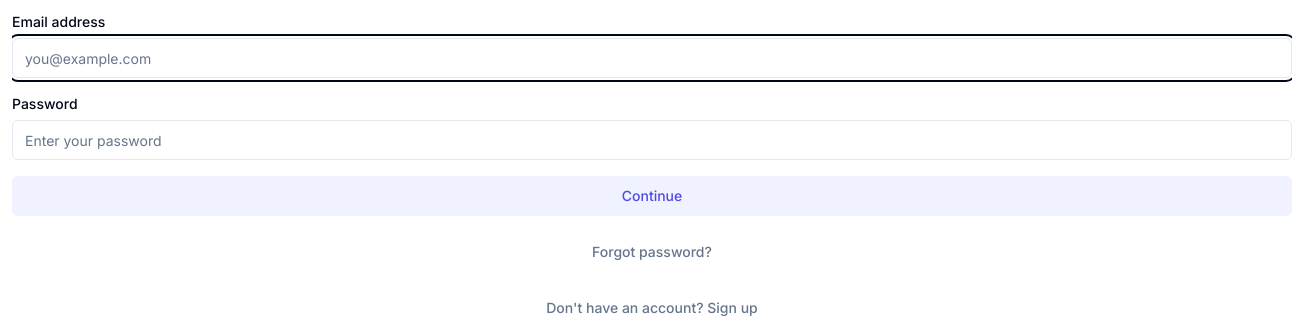
Test: EmailPasswordAuthForm › Mode switching › switches from sign-in to reset when forgot password clicked
The image size is (1304, 333).
What coordinates should you click on to do the following:
click the button "Forgot password?"
I would click on:
 (652, 252)
Its box is [12, 232, 1292, 272].
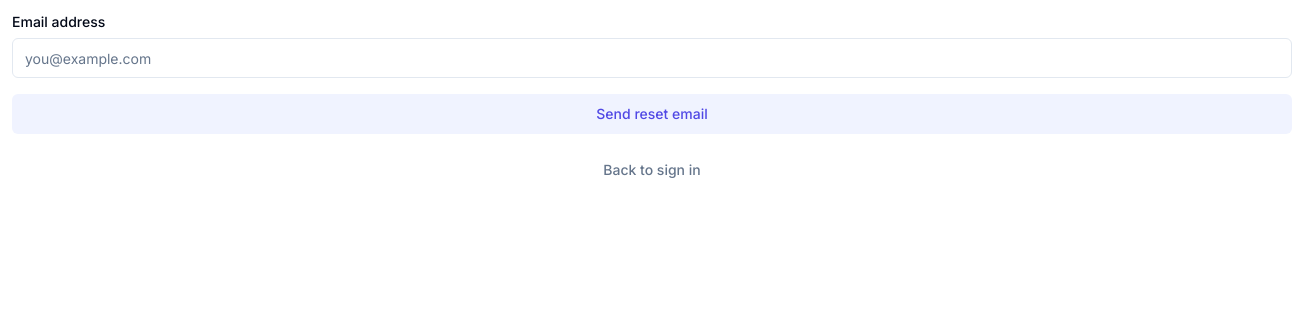
Now the button "Send reset email" is shown, box [12, 94, 1292, 134]
